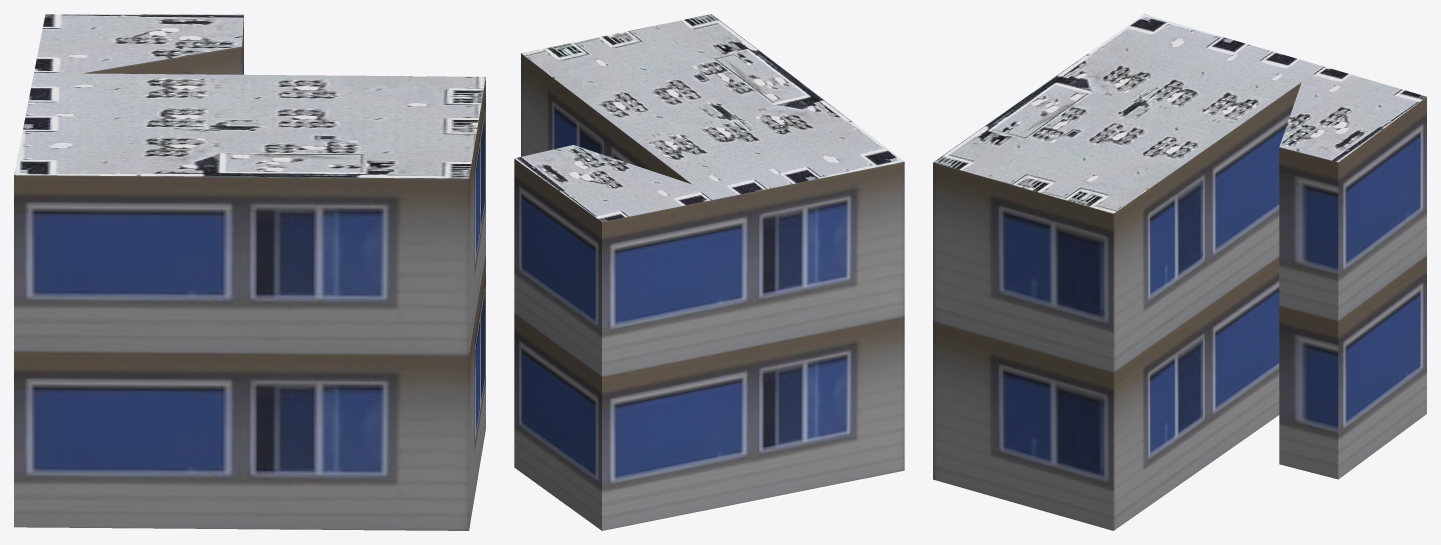
The model's file is ResTex__3417.fbx.
3 views of the same model, side by side, from view 1: azimuth 30°, elevation 25°; view 2: azimuth 150°, elevation 25°; view 3: azimuth 270°, elevation 25° (orthographic). The views are drawn at different scales.
Visible parts, largest first — view 1: CityEngineMaterial_23_m, CityEngineMaterial_m; view 2: CityEngineMaterial_23_m, CityEngineMaterial_m; view 3: CityEngineMaterial_23_m, CityEngineMaterial_m.
Boxes of the visible parts, left/top/right/bottom form: CityEngineMaterial_23_m: left=14, top=16, right=485, bottom=530; CityEngineMaterial_m: left=14, top=14, right=485, bottom=178; CityEngineMaterial_23_m: left=514, top=53, right=904, bottom=530; CityEngineMaterial_m: left=514, top=14, right=904, bottom=221; CityEngineMaterial_23_m: left=933, top=82, right=1426, bottom=530; CityEngineMaterial_m: left=933, top=14, right=1426, bottom=213.
Bounding box in the file's own units: 8.11 × 6 × 8.47.
Materials: 2 (2 with a texture image).
